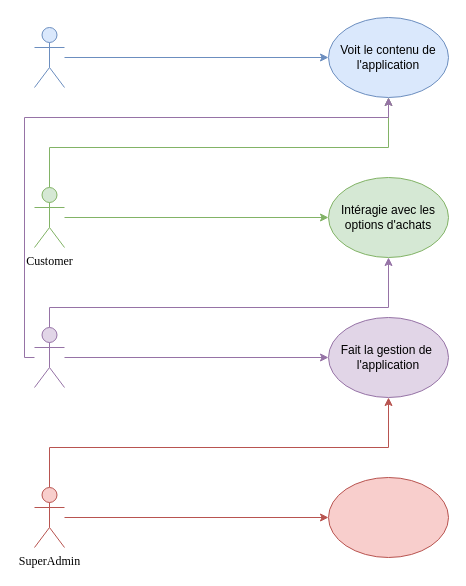
This 466x586 diagram has some shape labels left out. Here are the shapes that lost their labels. From the top down, the centre of each, then its label:
At (x=49, y=57): "Visitor".
At (x=49, y=357): "Admin".
At (x=388, y=517): "détient plus de droits sur la gestion de l'application et des utilisateurs".
